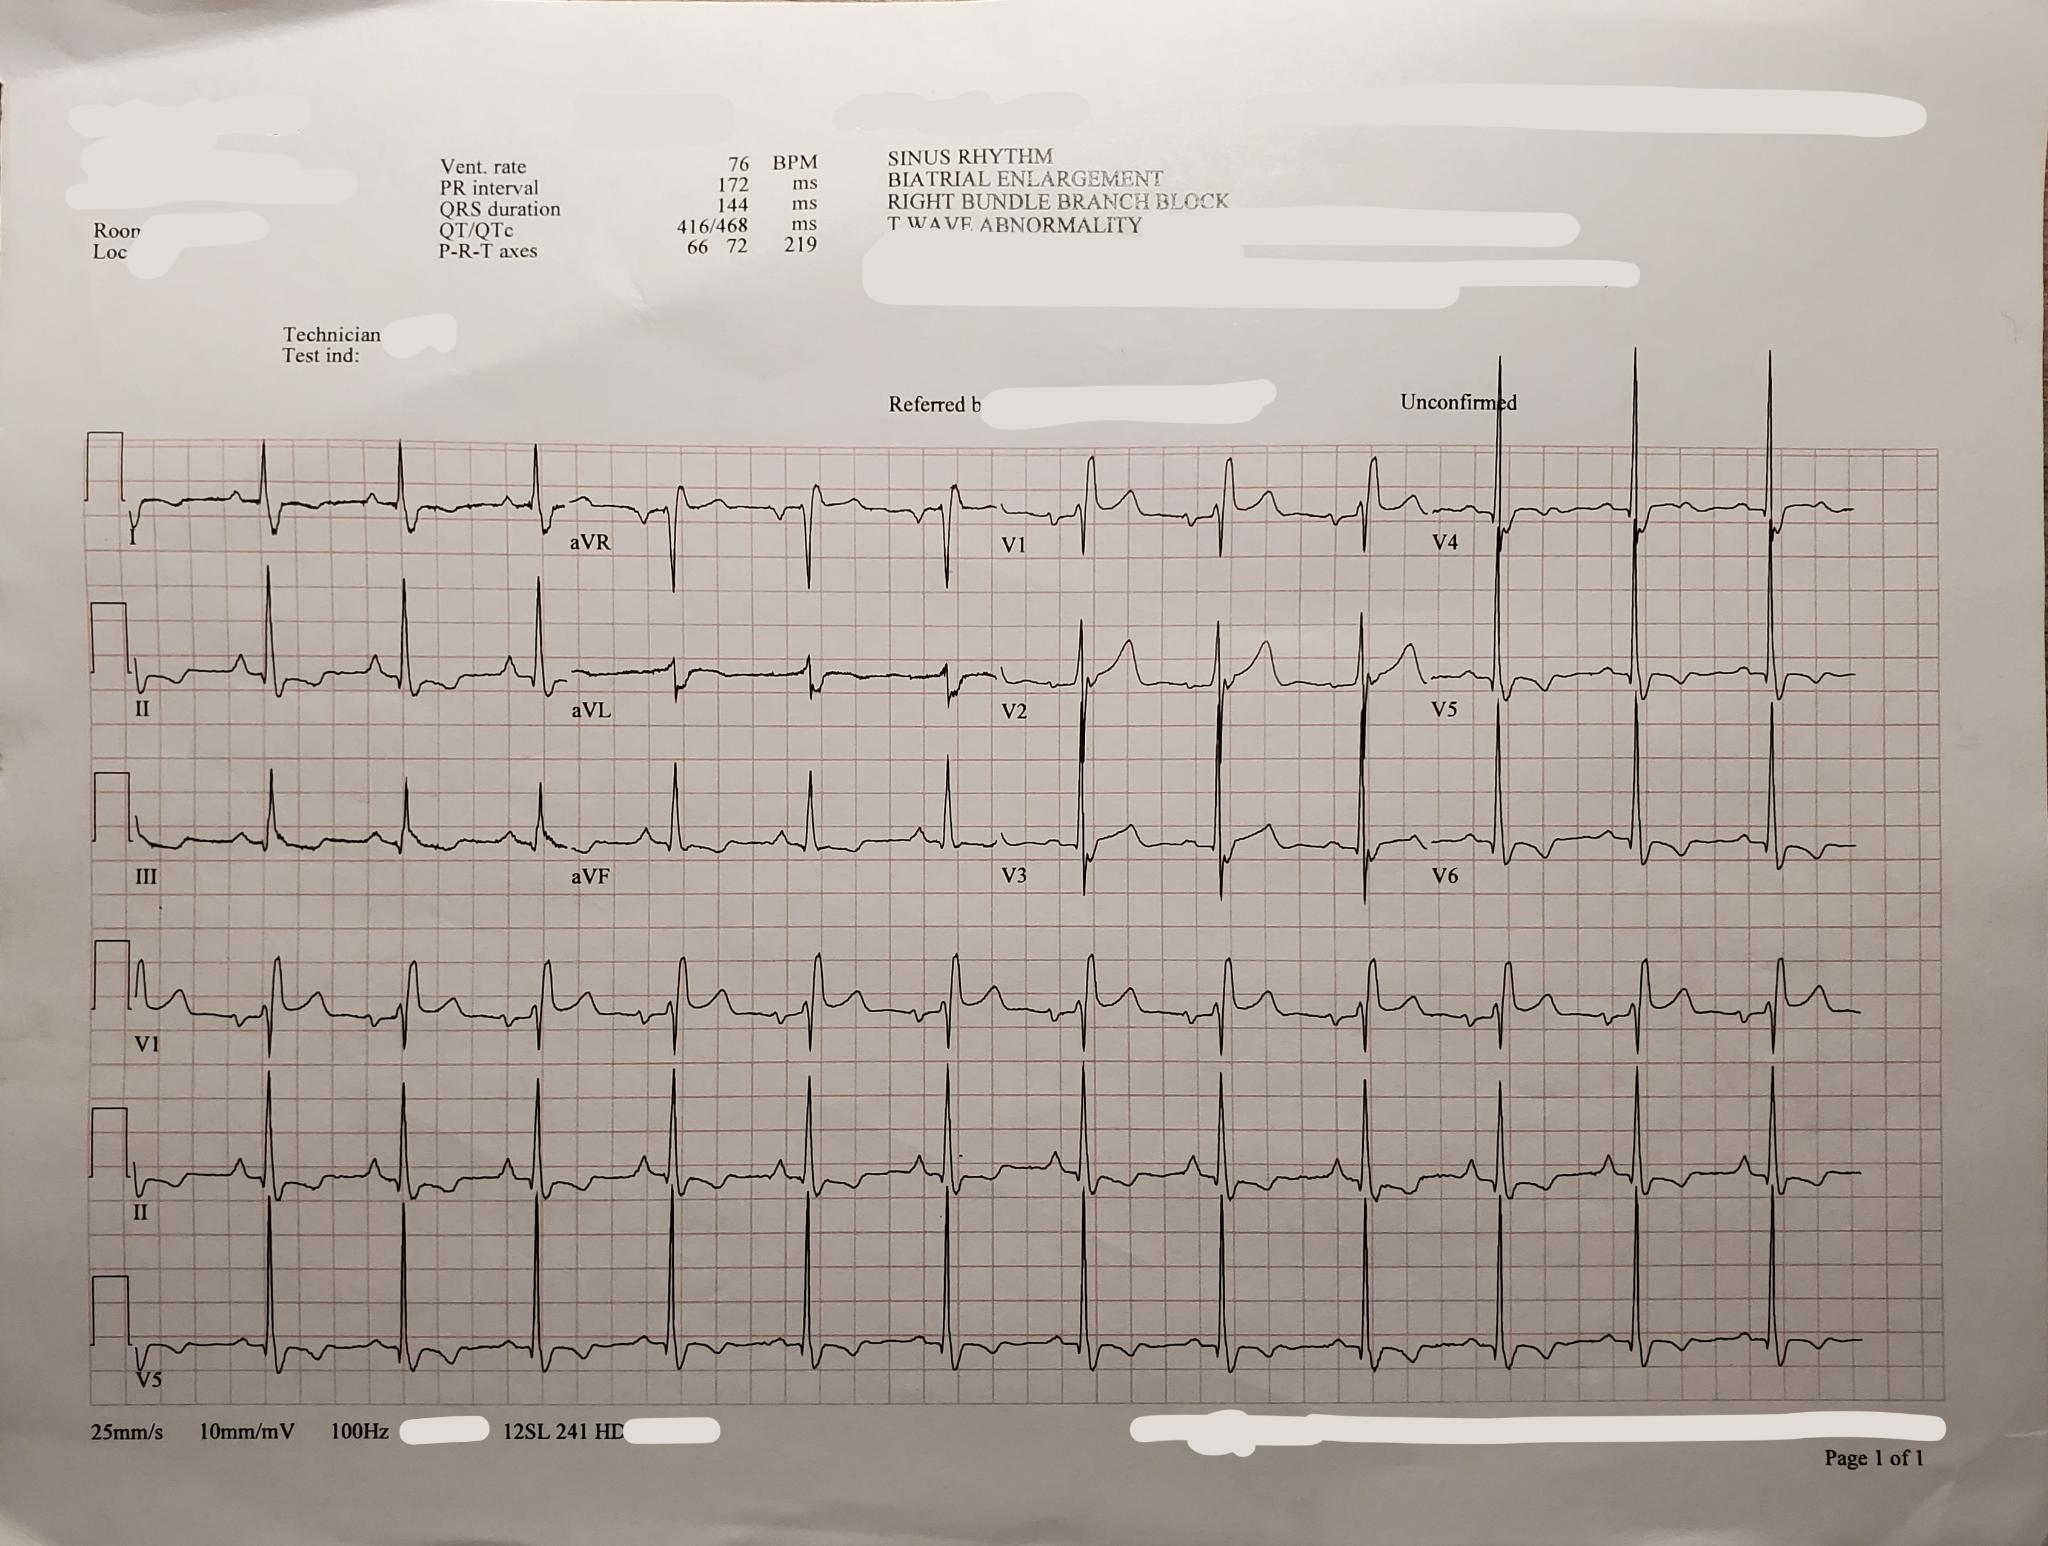Lead_I: (122, 429, 559, 583)
Lead_II: (127, 1057, 581, 1263), (117, 549, 572, 742)
Lead_III: (117, 755, 572, 914)
Lead_V1: (128, 927, 577, 1083), (992, 450, 1419, 596)
Lead_V2: (996, 599, 1423, 786)
Lead_V3: (1004, 693, 1424, 927)
Lead_V4: (1415, 322, 1868, 614)
Lead_V5: (1415, 520, 1874, 765), (133, 1265, 580, 1418)
Lead_V6: (1415, 658, 1912, 908)
Lead_aVF: (568, 737, 992, 911)
Lead_aVL: (562, 602, 997, 757)
Lead_aVR: (560, 450, 992, 606)
